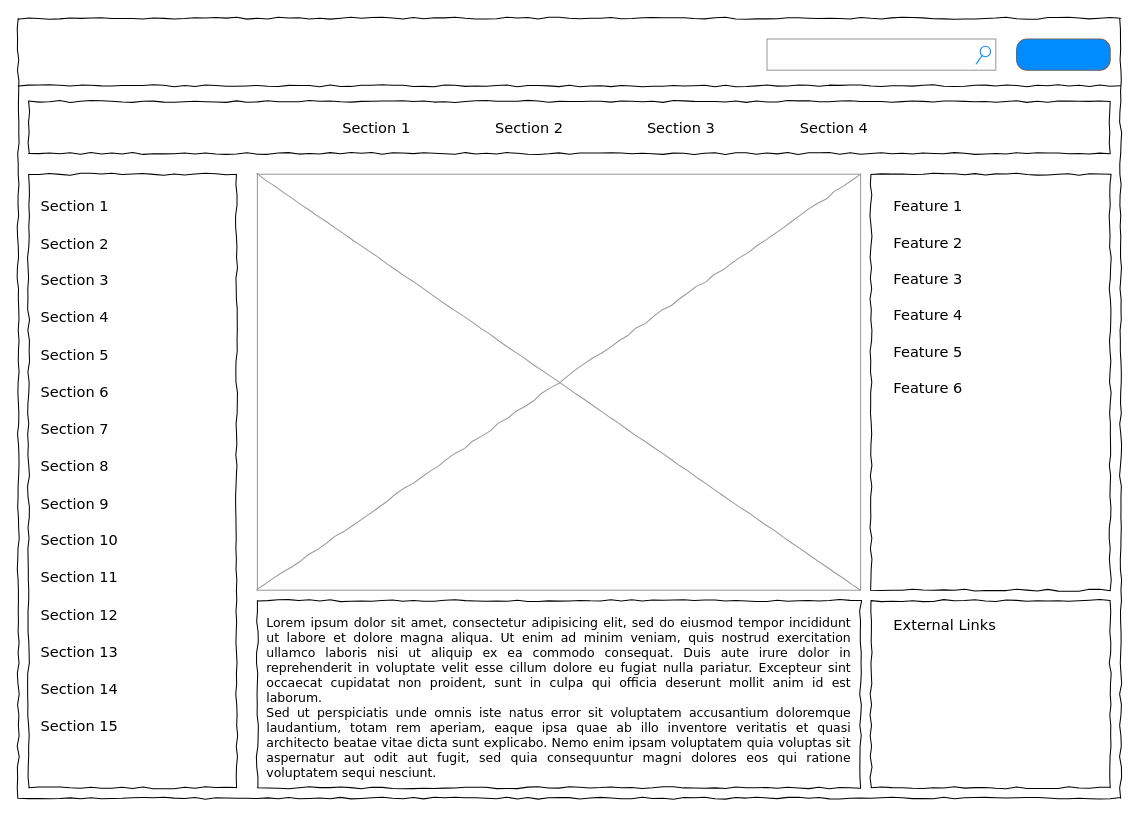
This 1139x816 diagram has some shape labels left out. The shapes that lost their labels are listed below. From the top down, each one's centre as x and y in pixels, then its label:
At (881,54): "Search".
At (1063,54): "Login".
